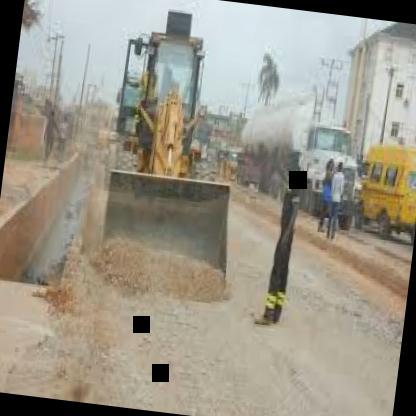car: (227, 71, 369, 223), (341, 123, 416, 251)
